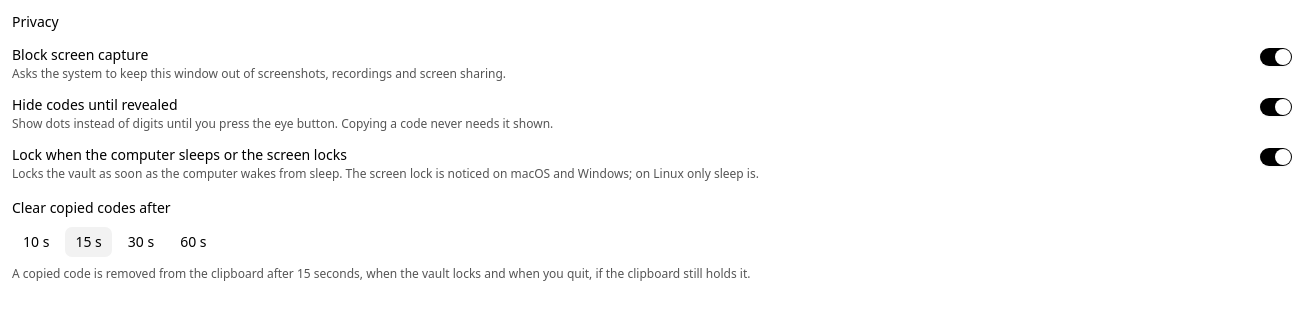
PrivacySettings other choices › shows the message when saving fails
Click the switch named "Hide codes until revealed" in the row of "Hide codes until revealed": (1276, 107) [1260, 98, 1292, 116]
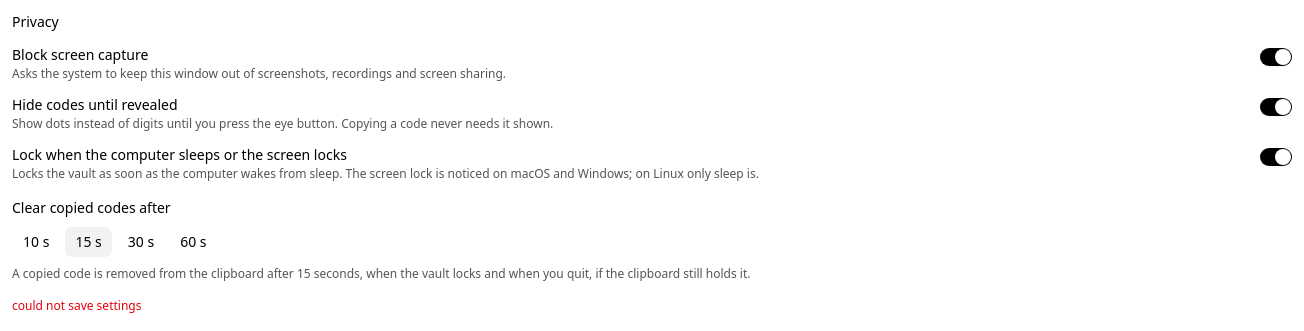
Result: the text "could not save settings" is shown at [12, 297, 142, 314]
